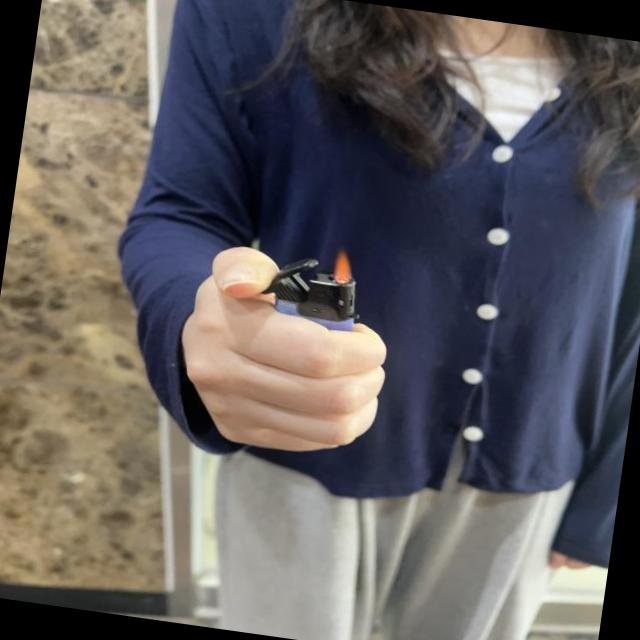Fire: (330, 251, 355, 285)
